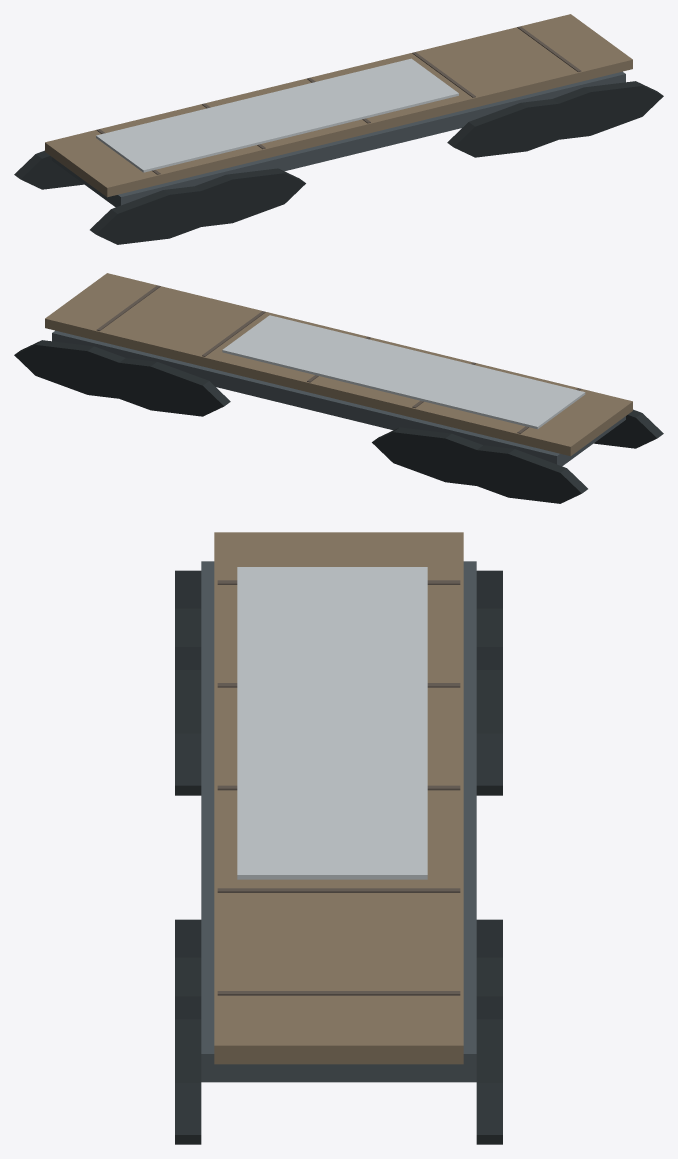
File: flat_wagon.glb
3 views of the same model, one above another, from view 1: azimuth 30°, elevation 25°; view 2: azimuth 150°, elevation 25°; view 3: azimuth 270°, elevation 25° (orthographic). The views are drawn at different scales.
Parts seen in each view (by area): view 1: flat_wagon; view 2: flat_wagon; view 3: flat_wagon.
Part boxes in pixels (<box>): flat_wagon: <box>14,14,663,244</box>; flat_wagon: <box>14,273,663,503</box>; flat_wagon: <box>175,532,502,1144</box>.
Size of the model in its own units: 12 by 1.2 by 3.
